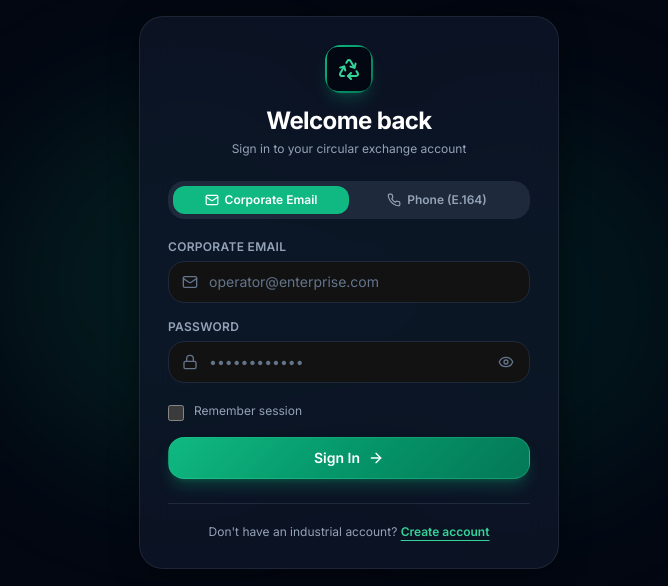
<LoginPage> › 429 response disables submit button with visible countdown
The width and height of the screenshot is (668, 586).
Type "rate@cwm.io" into the field labelled "Corporate Email" at {"x": 349, "y": 282}, box [168,260,530,302]
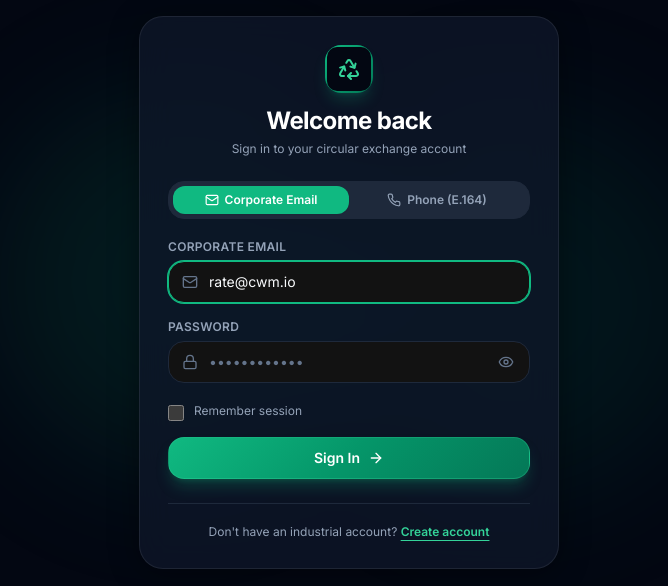
Type "Password123" into the password field labelled "Password" at {"x": 349, "y": 362}, box [168,340,530,382]
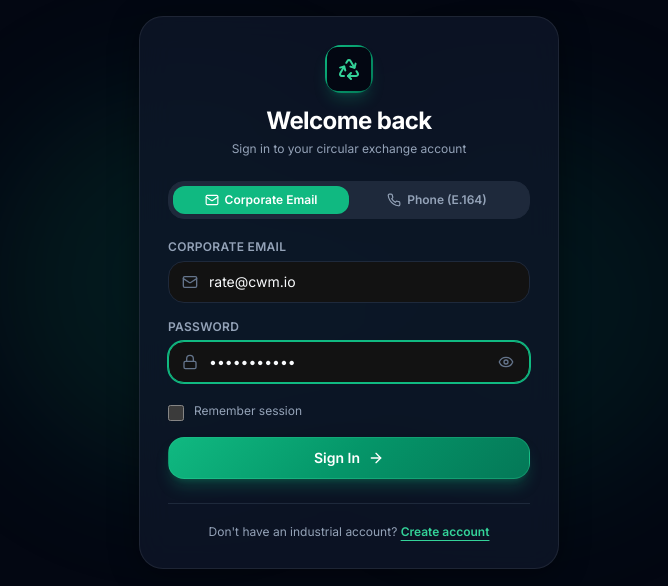
Click the button "Sign In" at {"x": 349, "y": 458}, box [168,436,530,478]
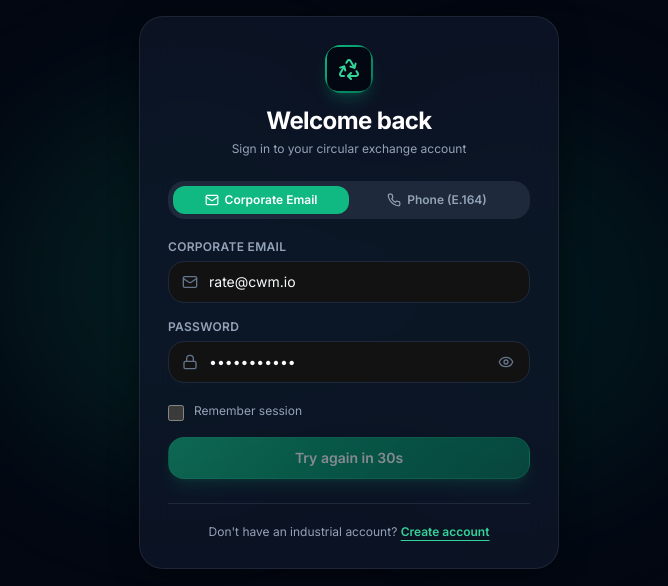
Check: the text "Try again in 30s" is shown, box [295,448,403,468]
Check: the button "Try again in 30s" is disabled, box [168,436,530,478]
